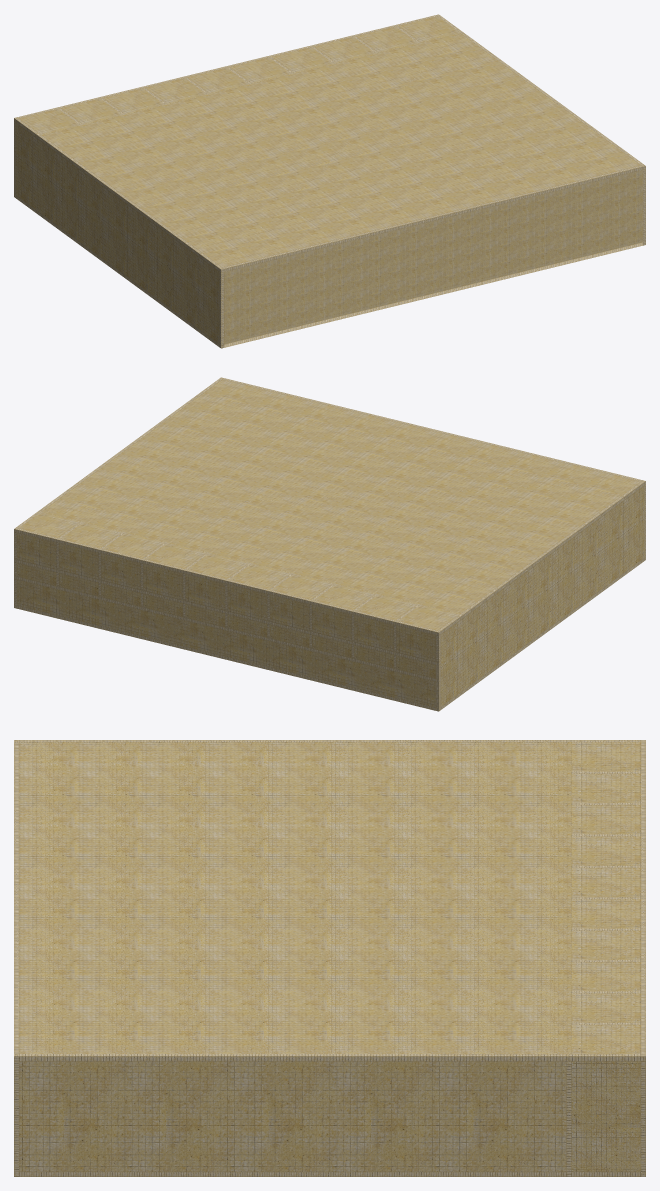
File: tutorial_structure_base_pt02.dae
3 views of the same model, one above another, from view 1: azimuth 30°, elevation 25°; view 2: azimuth 150°, elevation 25°; view 3: azimuth 270°, elevation 25° (orthographic). The views are drawn at different scales.
Parts seen in each view (by area): view 1: tutorial_structure_base_pt02; view 2: tutorial_structure_base_pt02; view 3: tutorial_structure_base_pt02.
Part boxes in pixels (bbox=[...]): tutorial_structure_base_pt02: bbox=[14, 14, 645, 348]; tutorial_structure_base_pt02: bbox=[14, 377, 645, 711]; tutorial_structure_base_pt02: bbox=[14, 740, 645, 1176].
Bounding box in the file's own units: 103 × 86.69 × 18.24.
Materials: 2 (2 with a texture image).
